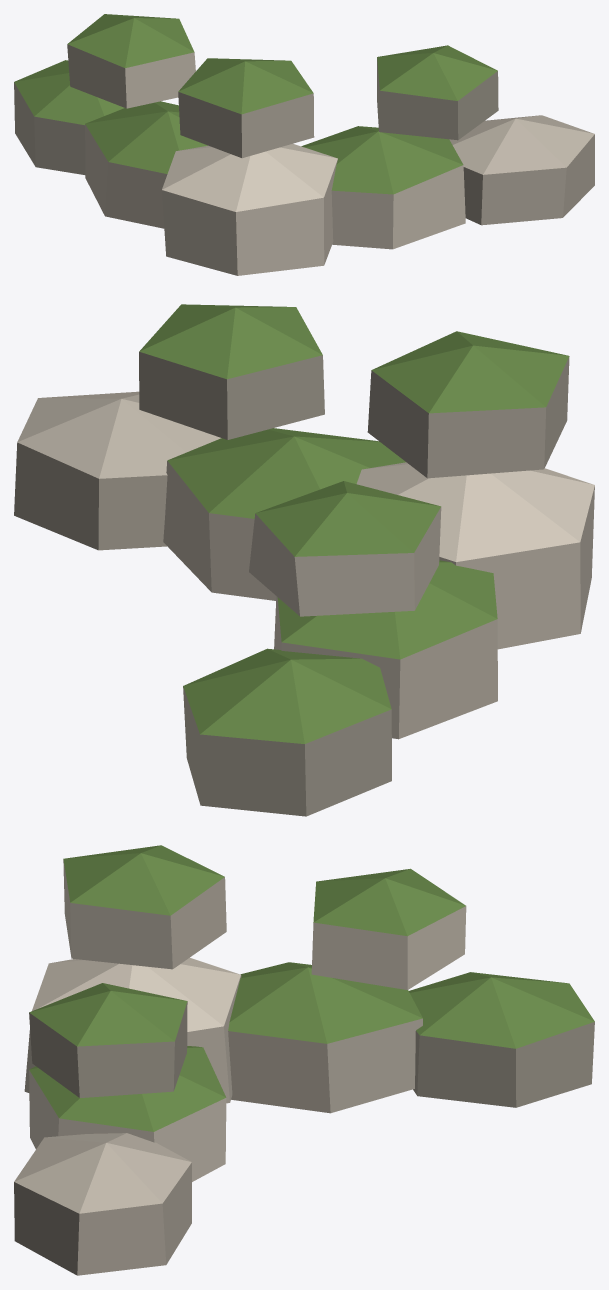
File: prop_stone_wall_corner.glb
The picture shows the model from 3 angles, top to bottom: view 1: azimuth 30°, elevation 25°; view 2: azimuth 150°, elevation 25°; view 3: azimuth 270°, elevation 25°; orthographic projection. The views are drawn at different scales.
Parts seen in each view (by area): view 1: corner_key, corner_0_0, corner_0_1, corner_key_top, corner_top_1, corner_top_0, corner_1_0, corner_1_1; view 2: corner_1_1, corner_key_top, corner_key, corner_0_1, corner_top_1, corner_top_0, corner_1_0, corner_0_0; view 3: corner_1_0, corner_0_1, corner_1_1, corner_key_top, corner_top_1, corner_top_0, corner_0_0, corner_key.
Part boxes in pixels (x1=…): corner_key: x1=162, y1=143, x2=337, y2=275; corner_0_0: x1=301, y1=126, x2=465, y2=249; corner_0_1: x1=449, y1=115, x2=594, y2=225; corner_key_top: x1=178, y1=58, x2=314, y2=158; corner_top_1: x1=67, y1=14, x2=195, y2=108; corner_top_0: x1=377, y1=45, x2=498, y2=140; corner_1_0: x1=85, y1=101, x2=207, y2=228; corner_1_1: x1=14, y1=60, x2=124, y2=174; corner_1_1: x1=183, y1=648, x2=391, y2=816; corner_key_top: x1=367, y1=331, x2=569, y2=478; corner_key: x1=356, y1=462, x2=594, y2=649; corner_0_1: x1=14, y1=391, x2=221, y2=550; corner_top_1: x1=249, y1=481, x2=441, y2=616; corner_top_0: x1=139, y1=304, x2=324, y2=439; corner_1_0: x1=274, y1=560, x2=497, y2=739; corner_0_0: x1=163, y1=428, x2=405, y2=600; corner_1_0: x1=228, y1=962, x2=422, y2=1113; corner_0_1: x1=14, y1=1133, x2=191, y2=1275; corner_1_1: x1=409, y1=972, x2=594, y2=1107; corner_key_top: x1=63, y1=845, x2=226, y2=969; corner_top_1: x1=311, y1=868, x2=466, y2=989; corner_top_0: x1=29, y1=983, x2=187, y2=1097; corner_0_0: x1=29, y1=1046, x2=226, y2=1181; corner_key: x1=24, y1=957, x2=241, y2=1103.
Size of the model in its own units: 1.25 by 0.6243 by 1.27.
